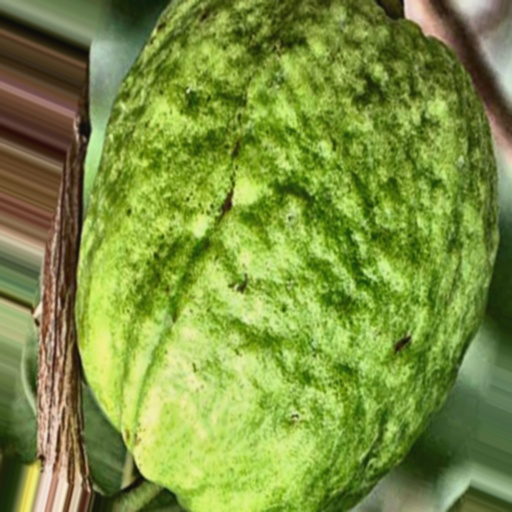guava: (109, 17, 437, 462)
